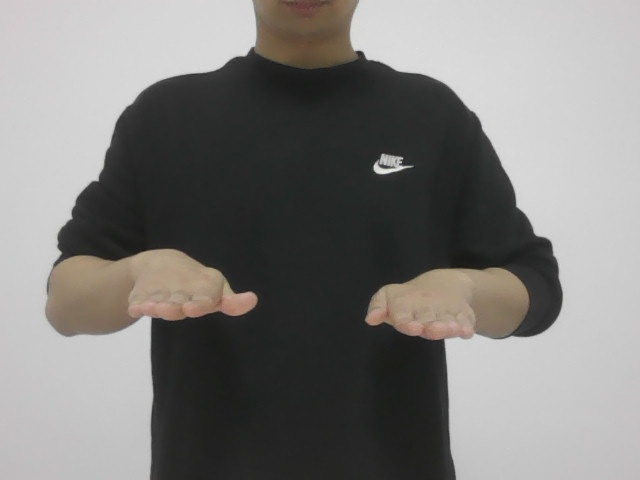flat: (116, 238, 484, 345)
